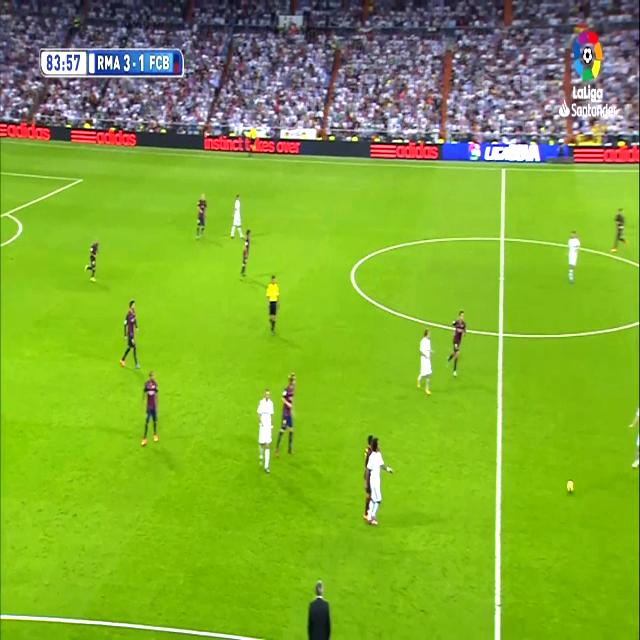bigarea_bottom_outter: (3, 204, 11, 220)
halfcircle_bottom: (494, 316, 508, 351)
halfcircle_top: (496, 222, 509, 254)
midline_top_intersection: (499, 162, 509, 178)
